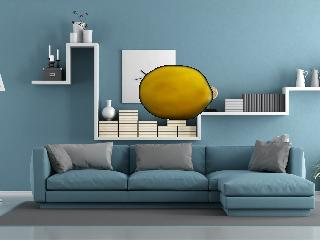lemon: (141, 66, 214, 119)
